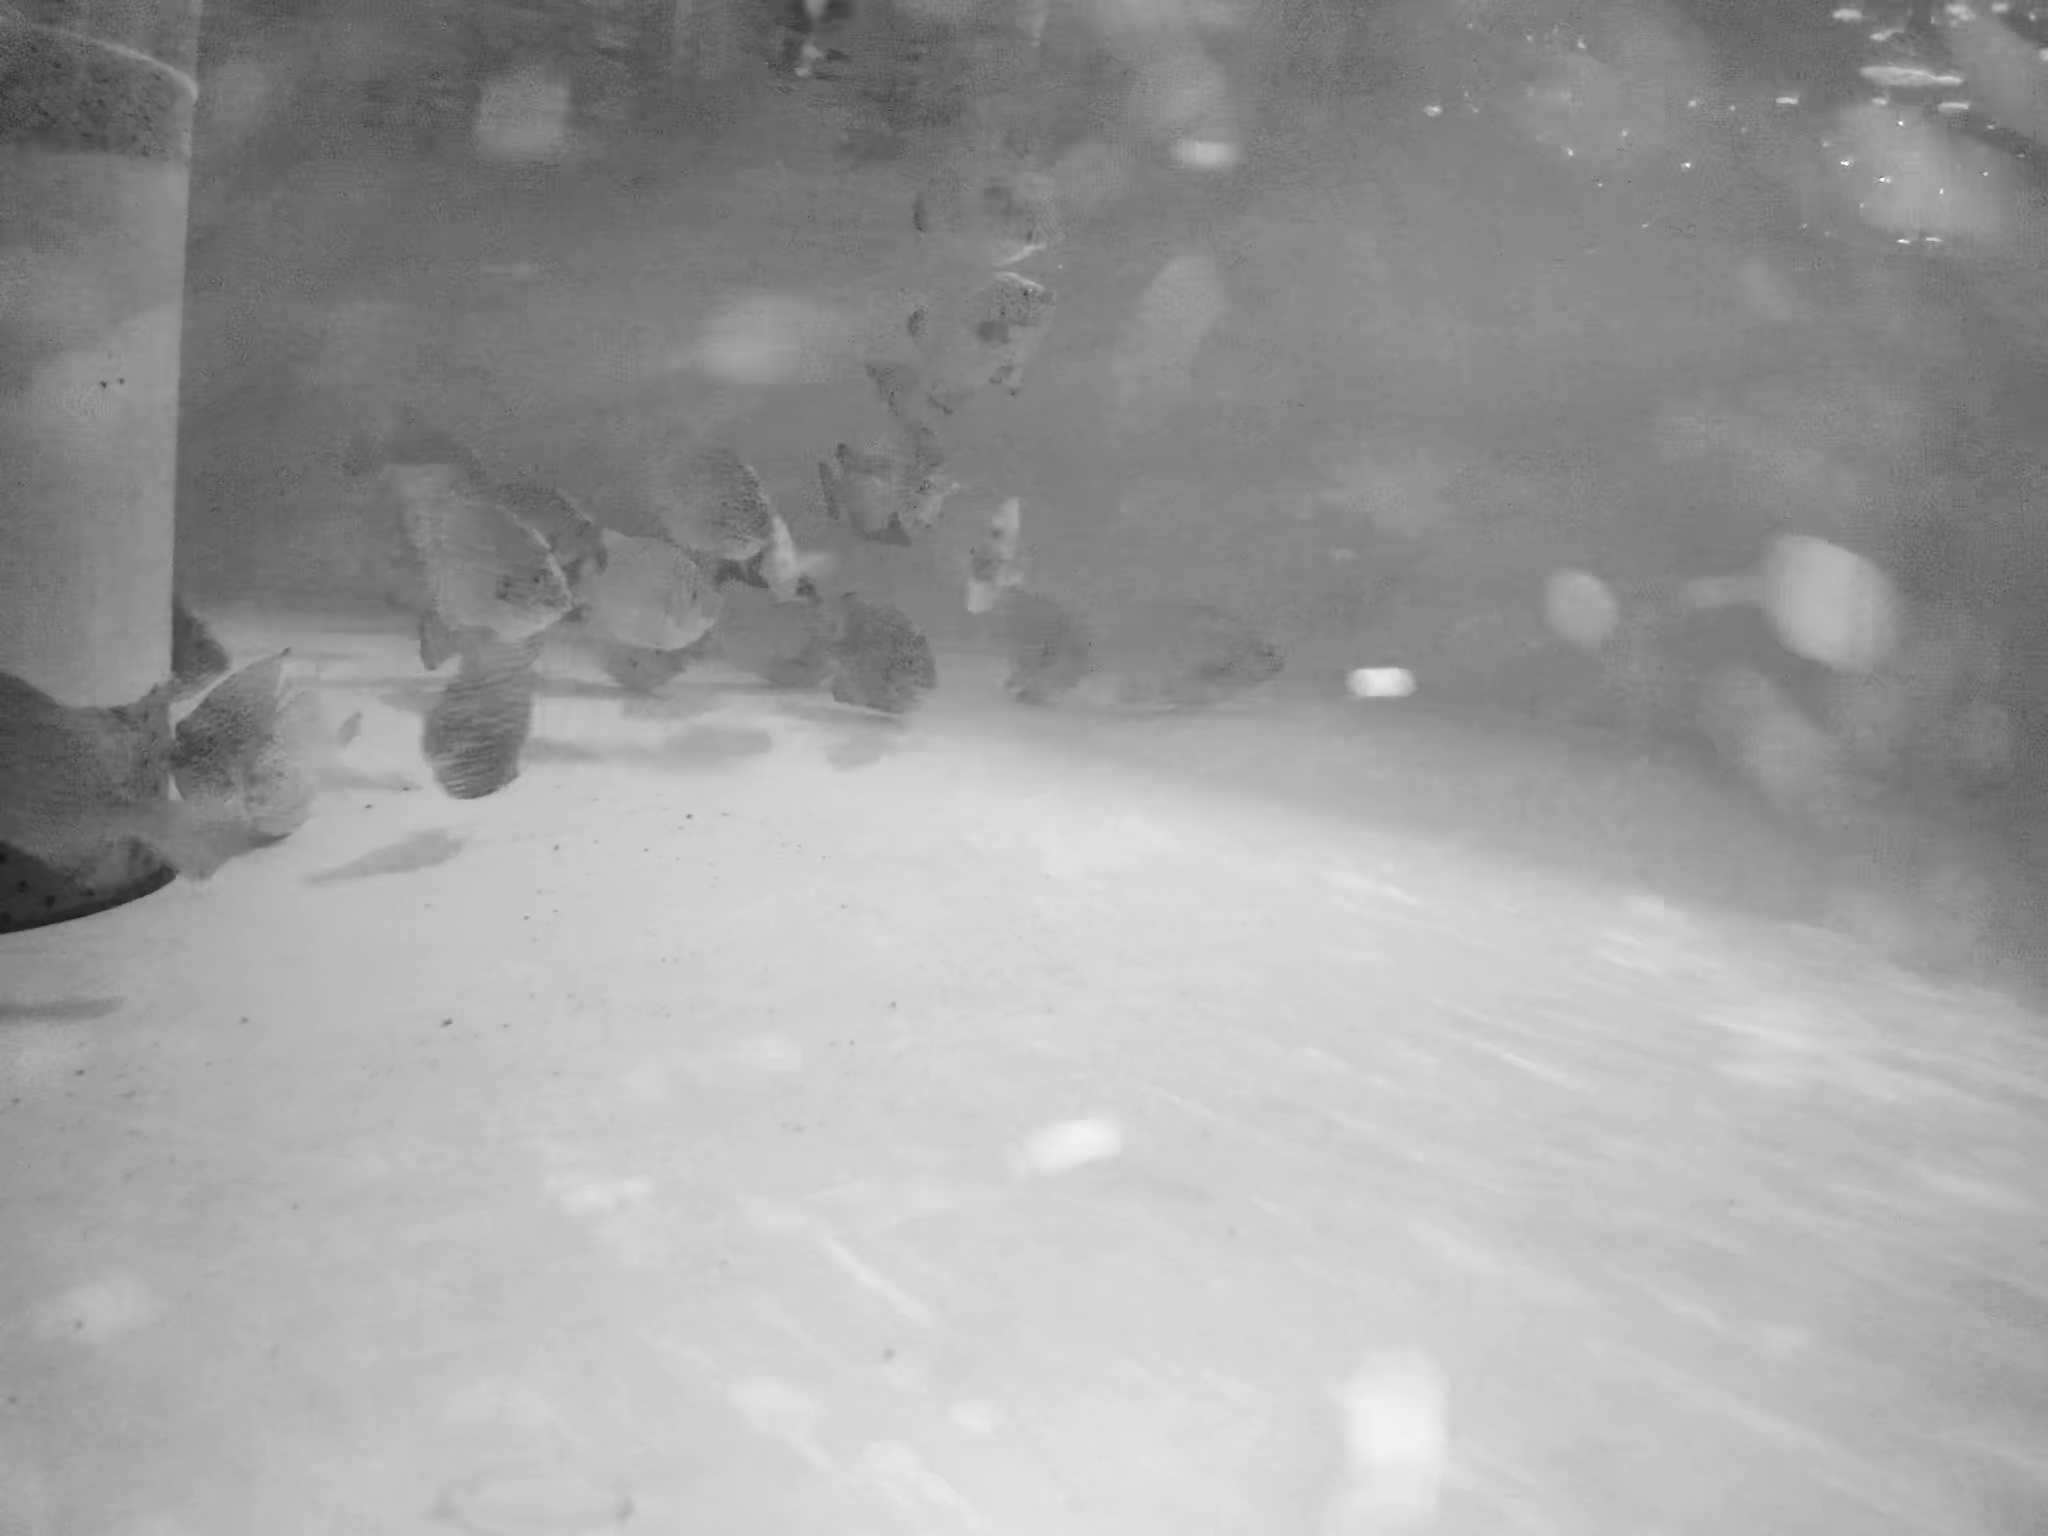fish: (298, 429, 558, 665), (176, 642, 393, 860), (908, 179, 1164, 344), (629, 399, 822, 607), (2, 650, 164, 886), (798, 463, 1039, 607), (1106, 582, 1292, 744), (452, 452, 618, 631), (750, 582, 945, 731), (910, 265, 1100, 394), (426, 616, 539, 829), (568, 531, 726, 681), (858, 345, 1027, 440), (992, 566, 1089, 710)
